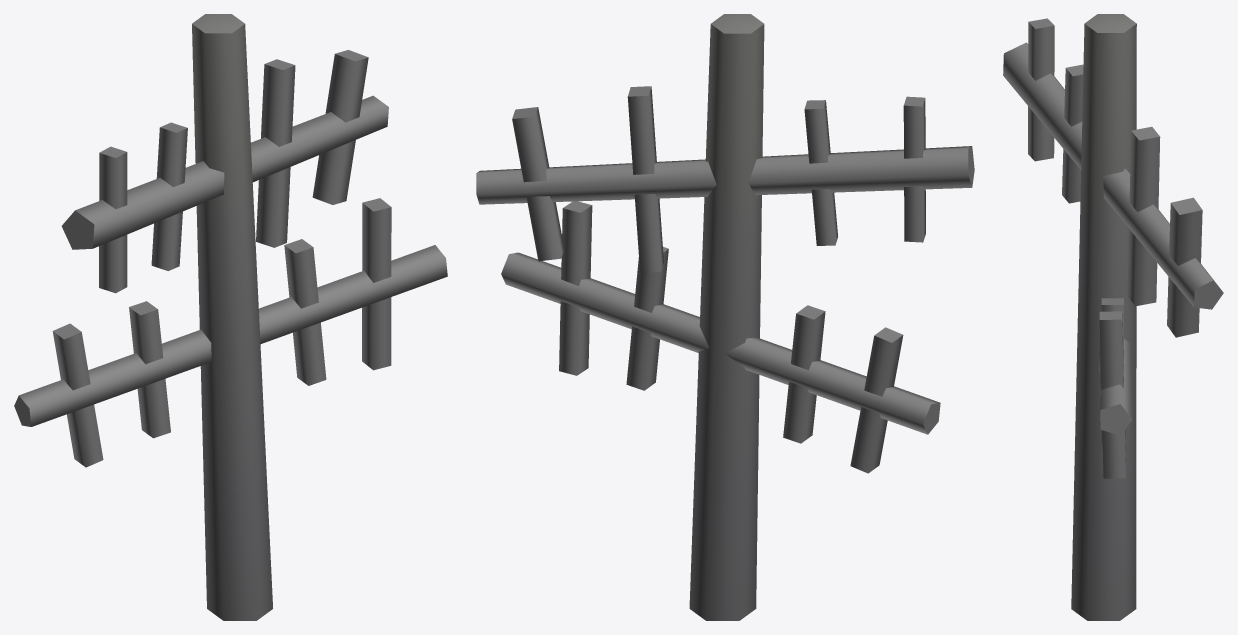
The model's file is Antene_1_D_1.fbx.
3 views of the same model, side by side, from view 1: azimuth 30°, elevation 25°; view 2: azimuth 150°, elevation 25°; view 3: azimuth 270°, elevation 25° (orthographic). The views are drawn at different scales.
Visible parts, largest first — view 1: Antene_1_D_1; view 2: Antene_1_D_1; view 3: Antene_1_D_1.
Boxes of the visible parts, box(x1,y1,x2,y2) form: Antene_1_D_1: box(14, 14, 447, 620); Antene_1_D_1: box(476, 14, 974, 620); Antene_1_D_1: box(1003, 14, 1223, 620).
Size of the model in its own units: 67.19 by 90.15 by 31.08.
